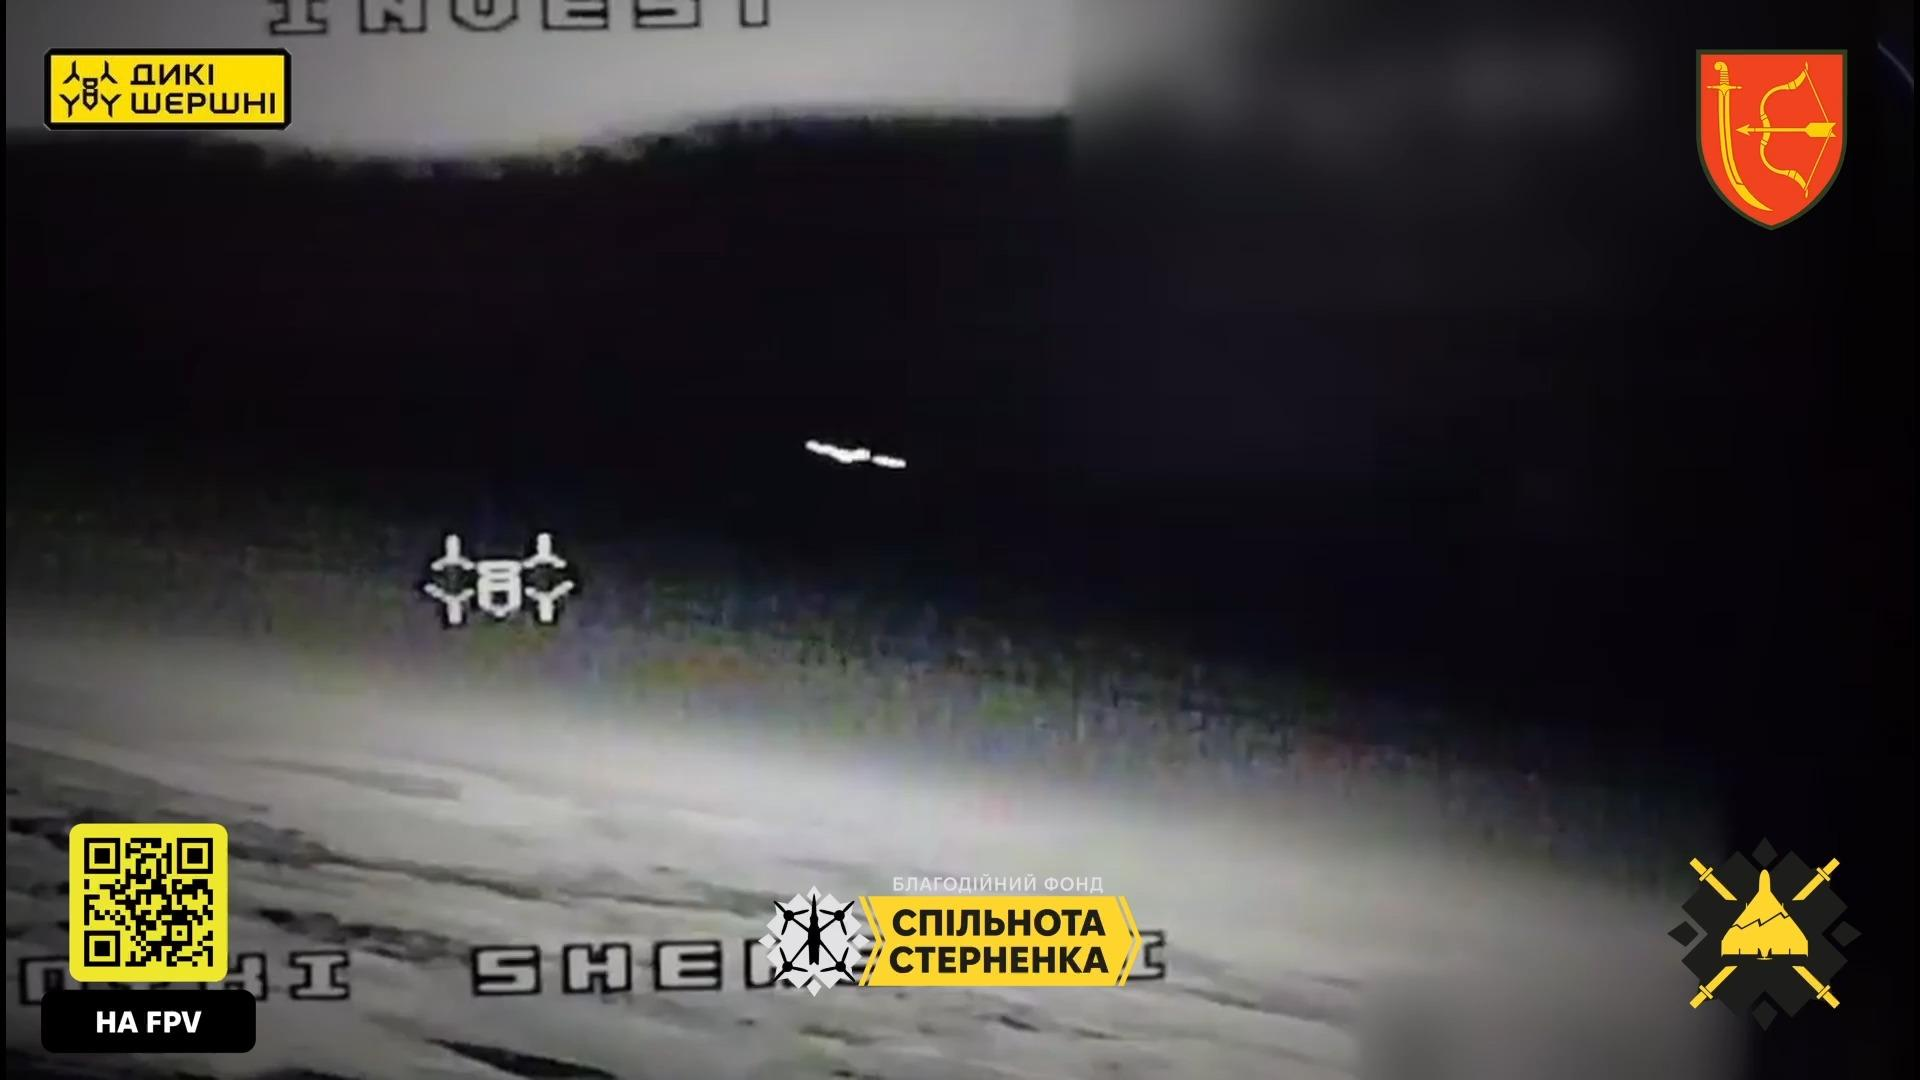Gerbera: (803, 438, 907, 471)
